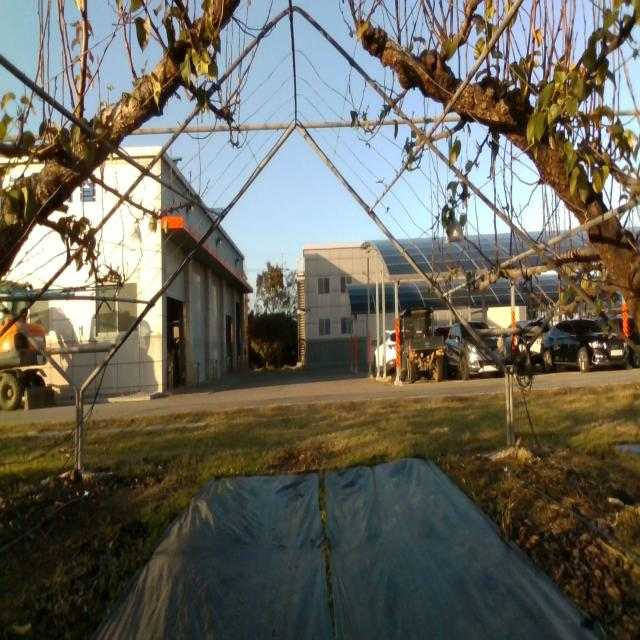pearbags: (444, 218, 465, 245), (129, 223, 142, 251)
